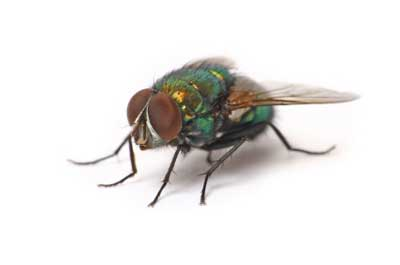green bottles flies: (64, 16, 370, 235)
